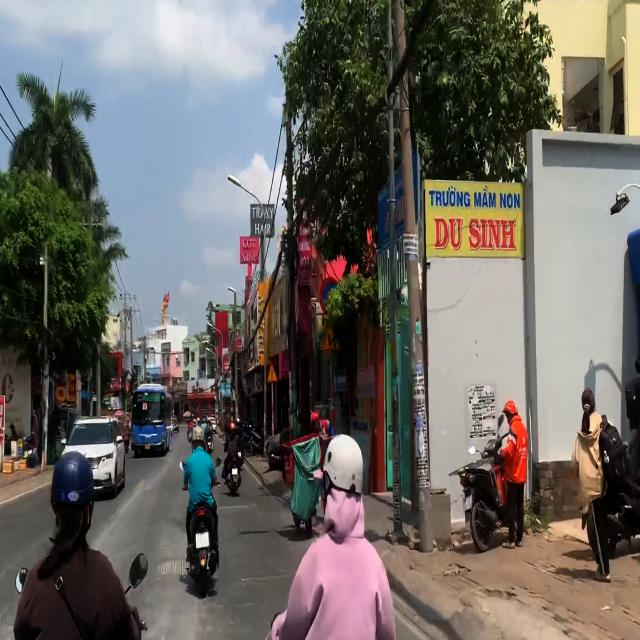Nguy hiem: (322, 321, 341, 351), (266, 362, 279, 383)
